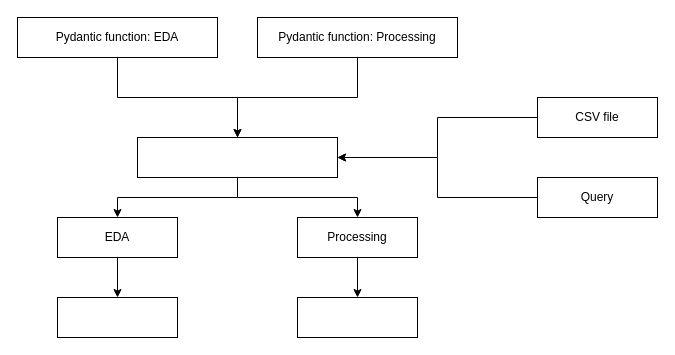
This 675x355 diagram has some shape labels left out. The shapes that lost their labels are listed below. From the top down, each one's centre as x and y in pixels, then its label:
At (237,157): "GPT 3.5".
At (117,317): "Plot".
At (357,317): "Clean csv file".
